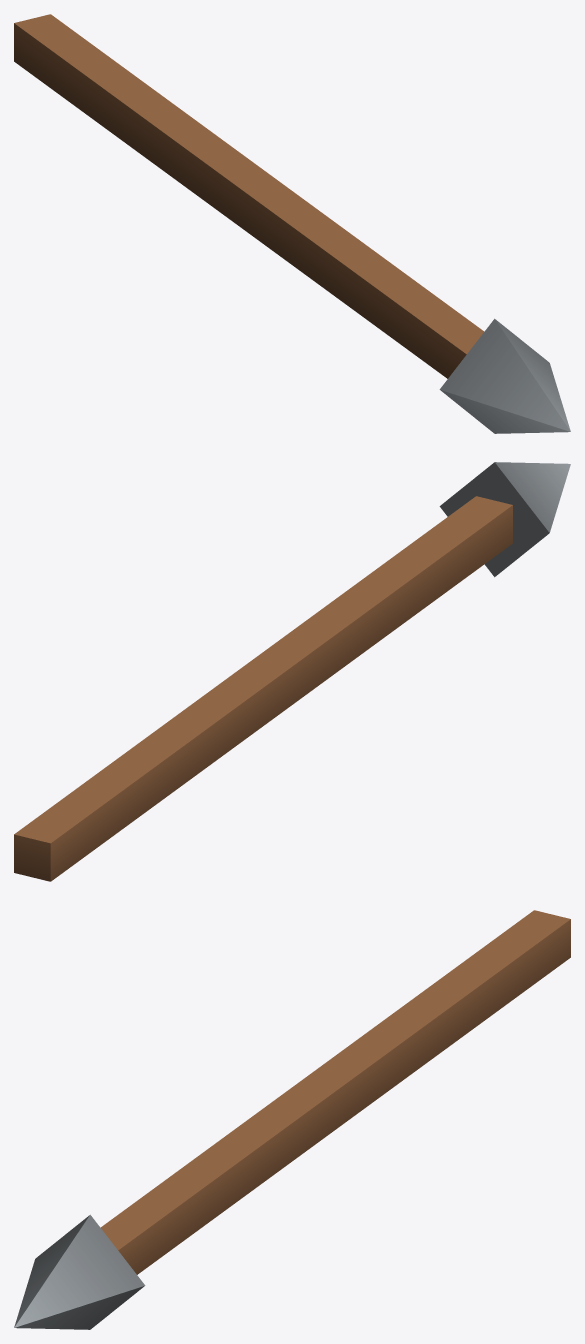
File: bolt.glb
3 renders of one model, top to bottom at view 1: azimuth 30°, elevation 25°; view 2: azimuth 150°, elevation 25°; view 3: azimuth 330°, elevation 25°, orthographic.
Visible parts, largest first — view 1: javelin; view 2: javelin; view 3: javelin.
Boxes of the visible parts, x1=… form: javelin: x1=14, y1=14, x2=570, y2=433; javelin: x1=14, y1=462, x2=570, y2=881; javelin: x1=14, y1=910, x2=570, y2=1329.
Size of the model in its own units: 0.15 by 0.15 by 1.27.
Materials: 1 (1 with a texture image).
